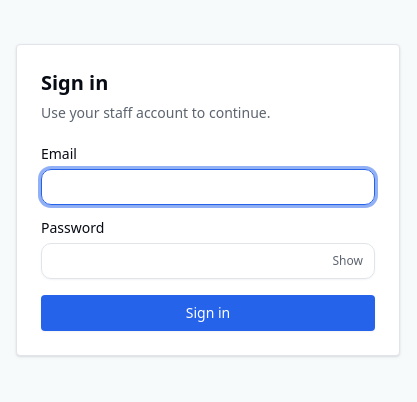
LoginPage › validates with the shared schema and shows translated messages (no request sent)
In the field labelled "Email": (208, 187) [41,169,375,205], type "not-an-email"
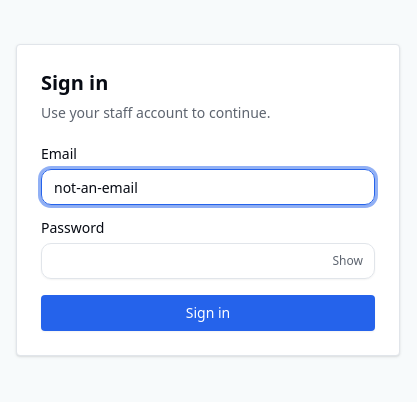
Click the button "Sign in": (208, 313) [41,295,375,331]
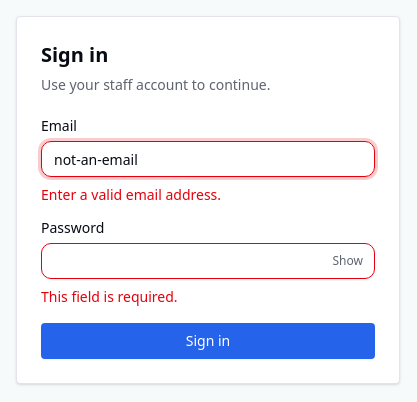
Check: the text "Enter a valid email address." is shown, box [41,185,221,204]
Check: the text "This field is required." is shown, box [41,287,178,306]
